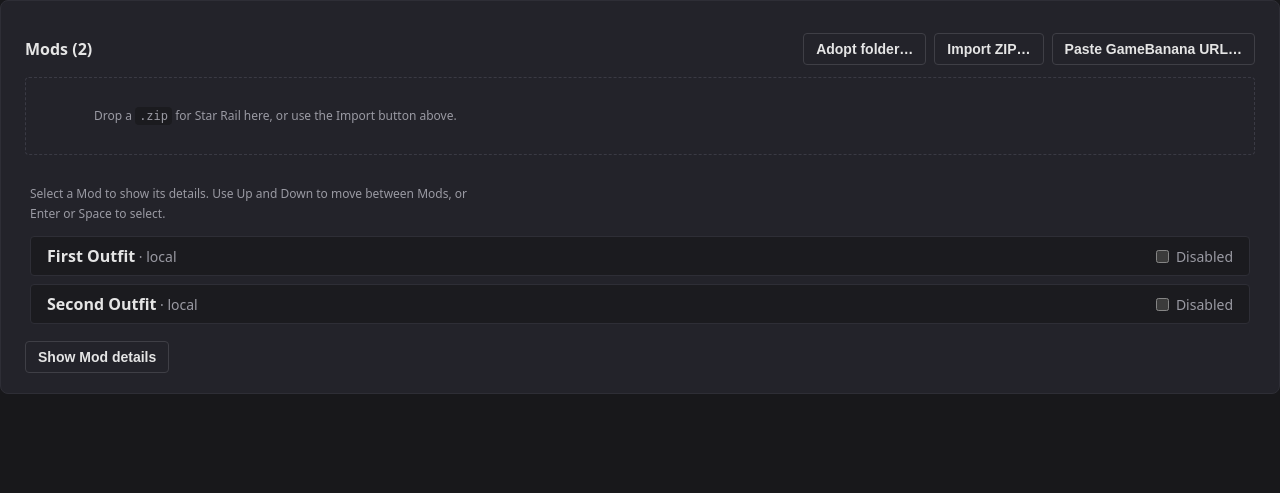
Test: reopens at the remembered width after a failed width change
Click the list item "First Outfit" at (640, 256), box [30, 236, 1250, 276]
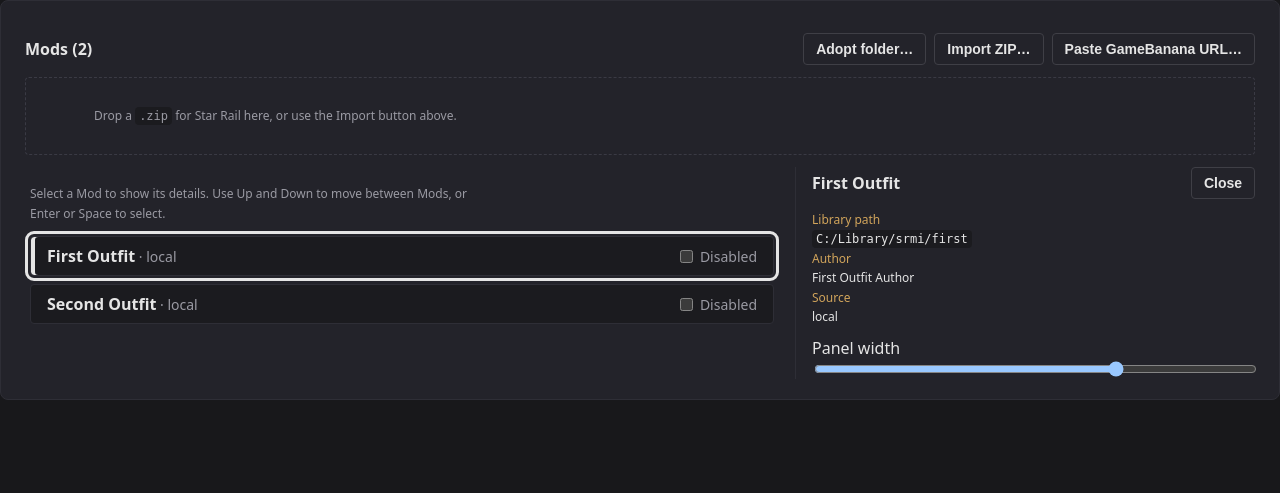
Expected: the slider holds "460"
Set the slider to "420" at (1062, 369), box [814, 361, 1257, 377]
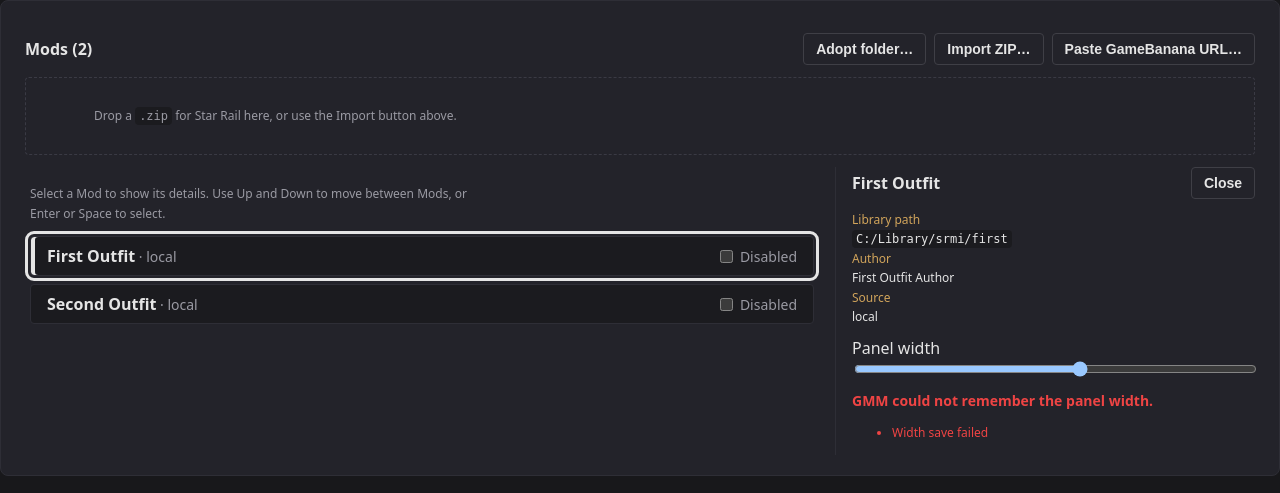
Expected: the list item "Width save failed" is shown, [892, 424, 988, 441]
Click the button with aria-label "Close Mod details" at (1223, 183), box [1191, 167, 1255, 199]
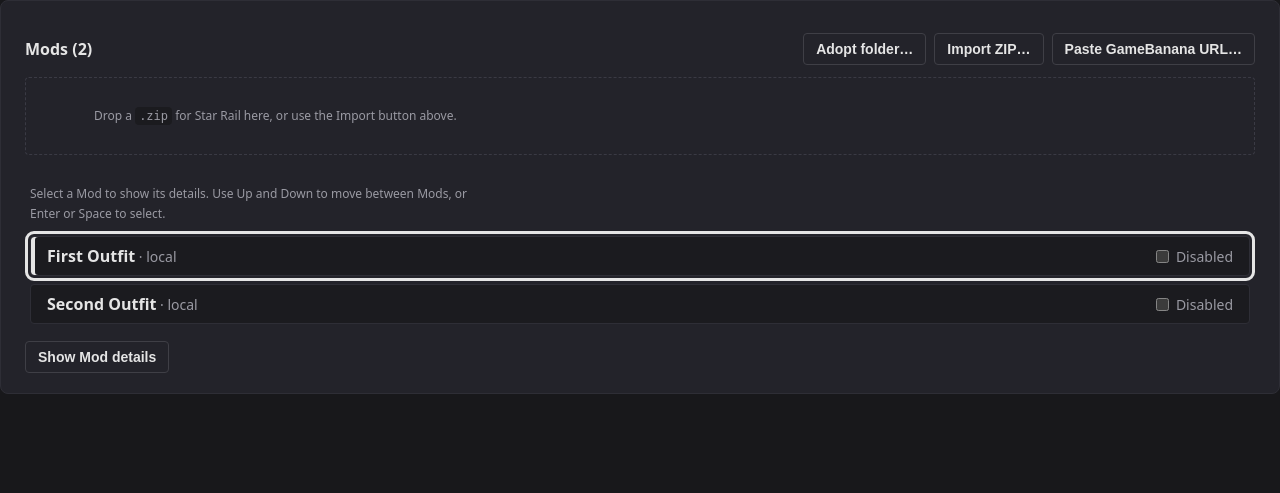
Click the button "Show Mod details" at (97, 357), box [25, 341, 169, 373]
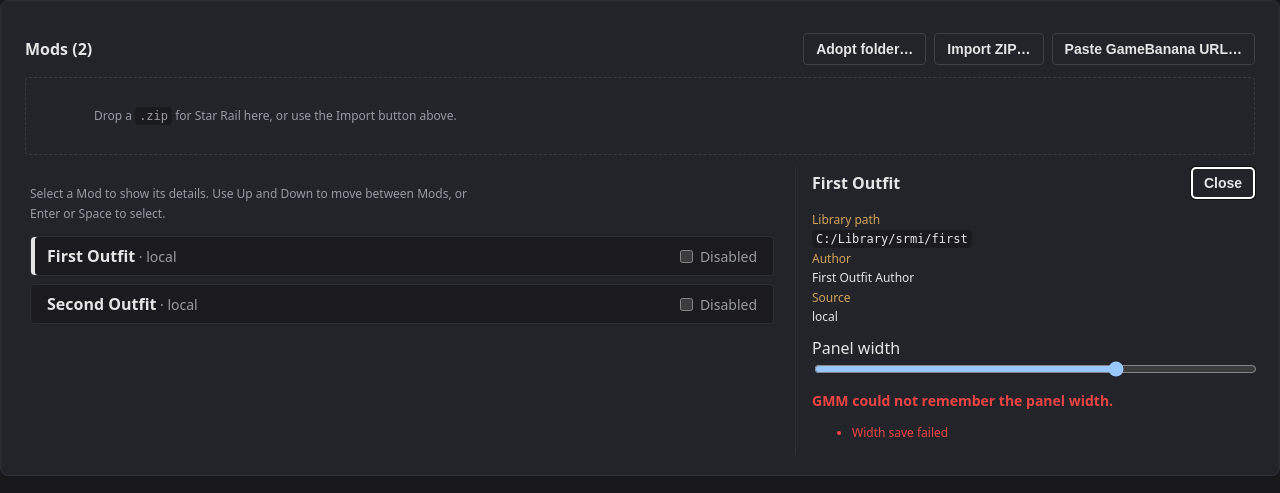
Expected: the slider holds "460", [814, 361, 1257, 377]
